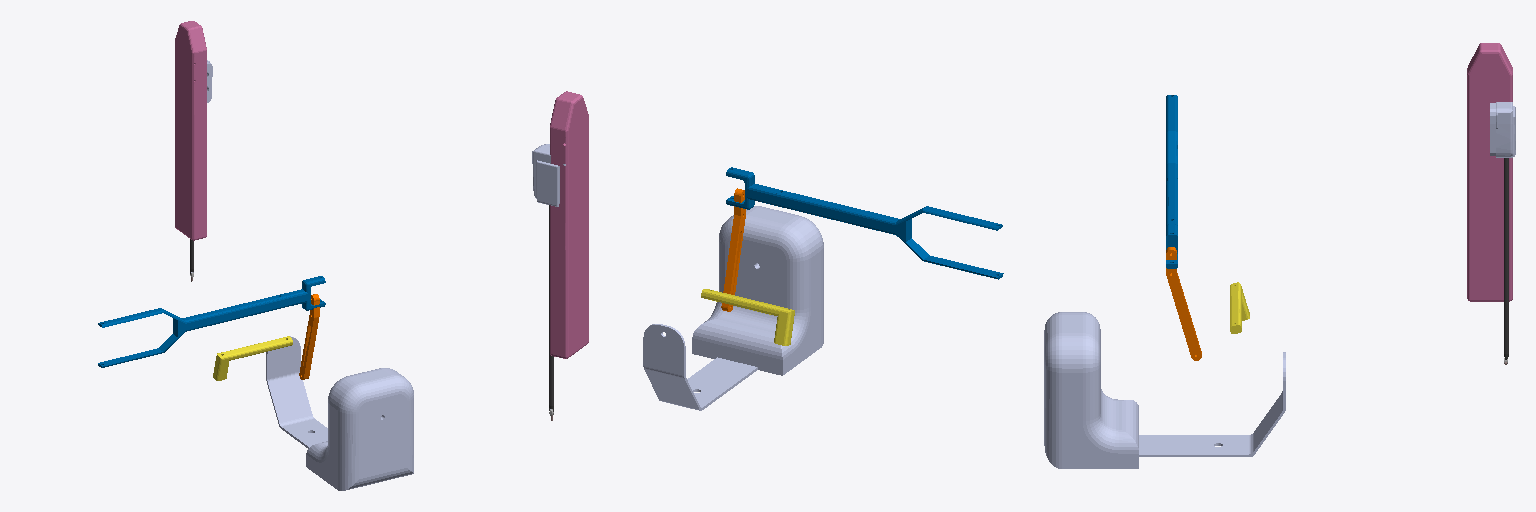
robot.urdf — daVinci:
<?xml version="1.0" encoding="utf-8"?>

<robot name="daVinci">

  <!-- link 0: psm base link -->
  <link name="psm_base_link">
    <visual>
      <origin rpy="1.5708 0 3.1416" xyz="0.039 -0.03888 -0.07879"/>
      <geometry>
        <mesh filename="package://dvrk_model/meshes/psm_base.dae"/>      
      </geometry>
    </visual>
  </link>
  
  <!-- joint 1 -->
  <joint name="outer_yaw_joint" type="revolute">
    <parent link="psm_base_link"/>
    <child link="outer_yaw_link"/>
    <axis xyz="0 0 1"/>
    <origin rpy="1.5708 -1.5708 0" xyz="0.0 0.0 0.0"/>
    <limit lower="-1.5707" upper="1.5707" velocity=".4" effort="1000"/>
  </joint> 
  
  
  <!-- link 1: outer_yaw -->
  <link name="outer_yaw_link">
    <visual>
      <!-- <origin rpy="0 0 -1.5708" xyz="0.0125 0 0.1575"/> -->
      <origin rpy="3.1416 0 1.5708" xyz="0.0125 0 0.1575"/>
      <geometry>
        <mesh filename="package://dvrk_model/meshes/outer_yaw.dae"/>      
      </geometry>
    </visual>
  </link>

  <!-- joint 2-1: outer_pitch_1 -->
  <joint name="outer_pitch_joint_1" type="revolute">
    <parent link="outer_yaw_link"/>
    <child link="outer_pitch_back_link"/>
    <axis xyz="0 0 1"/>
    <origin rpy="-1.5708 -1.5708 0" xyz="0 0.0295 0.1495"/>
    <limit lower="-0.7854" upper="0.7854" velocity=".4" effort="1000"/>
  </joint> 
  
  <!-- link 2: outer_pitch_back -->
  <link name="outer_pitch_back_link">
    <visual>
      <origin rpy="0 0 -0.27129" xyz="0 0 0"/>
      <geometry>
        <mesh filename="package://dvrk_model/meshes/outer_pitch_back.dae"/>      
      </geometry>
    </visual>
  </link>

  <!-- joint 2-2: outer_pitch_2 -->
  <joint name="outer_pitch_joint_2" type="continuous">
    <parent link="outer_yaw_link"/>
    <child link="outer_pitch_front_link"/>
    <axis xyz="0 0 1"/>
    <origin rpy="-1.5708 -1.5708 0" xyz="0 0.0295 0.0595"/>
    <mimic joint="outer_pitch_joint_1" multiplier="1"/>
  </joint>

  <!-- link 2-2: outer_pitch_front -->
  <link name="outer_pitch_front_link">
    <visual>
      <origin rpy="0 0 -0.27129" xyz="0 0 0"/>
      <!-- <origin rpy="0 0 0" xyz="0 0 0"/> -->
      <geometry>
        <mesh filename="package://dvrk_model/meshes/outer_pitch_front.dae"/>      
      </geometry>
    </visual>
  </link>

  <!-- joint 2-3: outer_pitch_3 -->
  <joint name="outer_pitch_joint_3" type="continuous">
    <parent link="outer_pitch_back_link"/>
    <child link="outer_pitch_bottom_link"/>
    <axis xyz="0 0 1"/>
    <origin rpy="0 0 0" xyz="0.04178 0.15007 -0.0137"/>
    <mimic joint="outer_pitch_joint_1" multiplier="-1"/>
  </joint>

  <!-- link 2-3: outer_pitch_bottom -->
  <link name="outer_pitch_bottom_link">
    <visual>
      <origin rpy="0 -1.5708 0" xyz="0.009 0 0"/>
      <geometry>
        <mesh filename="package://dvrk_model/meshes/outer_pitch_bottom.dae"/>      
      </geometry>
    </visual>
  </link>

  <!-- joint 2-4: outer_pitch_4 -->
  <joint name="outer_pitch_joint_4" type="continuous">
    <parent link="outer_pitch_back_link"/>
    <child link="outer_pitch_top_link"/>
    <axis xyz="0 0 1"/>
    <origin rpy="0 0 0" xyz="0.04209 0.18695 -0.02412"/>
    <mimic joint="outer_pitch_joint_1" multiplier="-1"/>
  </joint>

  <!-- link 2-4: outer_pitch_top -->
  <link name="outer_pitch_top_link">
    <visual>
      <origin rpy="0 -1.5708 0" xyz="0.009 0 0"/>
      <geometry>
        <mesh filename="package://dvrk_model/meshes/outer_pitch_top.dae"/>      
      </geometry>
    </visual>
  </link>

  <!-- joint 2-5: outer_pitch_5 -->
  <joint name="outer_pitch_joint_5" type="continuous">
    <parent link="outer_pitch_bottom_link"/>
    <child link="outer_insertion_link"/>
    <axis xyz="0 0 1"/>
    <origin rpy="0 0 0" xyz="-0.520 0 -0.0175"/>
    <mimic joint="outer_pitch_joint_1" multiplier="1"/>
  </joint>

  <!-- link 2-5: outer_insertion -->
  <link name="outer_insertion_link">
    <visual>
      <origin rpy="0 -1.5708 1.5708" xyz="0.02528 0.429 0"/>
      <geometry>
        <mesh filename="package://dvrk_model/meshes/outer_insertion.dae"/>      
      </geometry>
    </visual>
  </link>

  <!-- joint 3: insertion -->
  <joint name="outer_insertion_joint" type="prismatic">
    <parent link="outer_insertion_link"/>
    <child link="tool_main_link"/>
    <axis xyz="0 0 1"/>
    <origin rpy="1.5708 0 0" xyz="-0.0403 0.23622 0"/>
    <limit lower="0" upper="0.240" velocity=".4" effort="1000"/>
  </joint>

  <!-- link 3: tool_main_link -->
  <link name="tool_main_link">
    <visual>
      <origin rpy="0 0 1.5708" xyz="0 0 0"/>
      <geometry>
        <mesh filename="package://dvrk_model/meshes/tool_main.dae"/>      
      </geometry>
    </visual>
  </link>
  
  <!-- joint 4-1: Outer Roll -->
  <joint name="outer_roll_joint" type="revolute">
    <parent link="tool_main_link"/>
    <child link="tool_wrist_link"/>
    <axis xyz="0 0 1"/>
    <origin rpy="0 0 0" xyz="0 0 0.36680"/>
    <limit lower="-2.2689" upper="2.2689" velocity=".4" effort="1000"/>
  </joint>

  <!-- link 4-1: tool_main_link -->
  <link name="tool_wrist_link">
    <visual>
      <origin rpy="0 0 1.5708" xyz="0 0 0"/>
      <geometry>
        <mesh filename="package://dvrk_model/meshes/tool_wrist_link.dae"/>      
      </geometry>
    </visual>
  </link>

  <!-- joint 4-1: Outer Roll shaft -->
  <joint name="outer_roll_shaft_joint" type="fixed">
    <parent link="tool_wrist_link"/>
    <child link="tool_wrist_shaft_link"/>
    <axis xyz="0 0 1"/>
    <origin rpy="0 0 0" xyz="0 0 0.0091"/>
  </joint>

  <!-- link 4-1: tool_wrist_shaft_link -->
  <link name="tool_wrist_shaft_link">
    <visual>
      <origin rpy="1.5708 0 0" xyz="0 0.00401 0"/>
      <geometry>
        <mesh filename="package://dvrk_model/meshes/tool_wrist_shaft_link.dae"/> 
      </geometry>
    </visual>
  </link>

  <!-- joint 5: Outer wrist pitch joint -->
  <joint name="outer_wrist_pitch_joint" type="revolute">
    <parent link="tool_wrist_shaft_link"/>
    <child link="tool_wrist_sca_link"/>
    <axis xyz="0 0 1"/>
    <origin rpy="-1.5708 -1.5708 0" xyz="0 0 0"/>
    <limit lower="-1.5707" upper="1.5707" velocity=".4" effort="1000"/>
  </joint>

  <!-- link 5: tool_wrist_sca_link -->
  <link name="tool_wrist_sca_link">
    <visual>
      <!-- <origin rpy="0 3.1416 0" xyz="0 0 0"/> -->
      <origin rpy="1.5708 3.1416 0" xyz="0.0051 0.0032 0"/>
      <geometry>
        <mesh filename="package://dvrk_model/meshes/tool_wrist_sca_link.dae"/> 
      </geometry>
    </visual>
  </link>

  <!-- joint 5-2: Outer wristyaw joint -->
  <joint name="outer_wrist_yaw_joint" type="revolute">
    <parent link="tool_wrist_sca_link"/>
    <child link="tool_wrist_sca_shaft_link"/>
    <axis xyz="0 0 1"/>
    <origin rpy="-1.5708 -1.5708 0" xyz="0.0089 0 0"/>
    <!-- +/- 80 deg -->
    <limit lower="-1.3963" upper="1.3963" velocity=".4" effort="1000"/>
  </joint>

  <!-- link 5-2: tool_wrist_sca_shaft_link -->
  <link name="tool_wrist_sca_shaft_link">
    <visual>
      <origin rpy="0 0 0" xyz="0 0 -0.0025"/>
      <geometry>
        <mesh filename="package://dvrk_model/meshes/tool_wrist_sca_shaft_link.dae"/> 
      </geometry>
    </visual>
  </link>
  
  <!-- joint 6-1: Outer open angle 1  -->
  <joint name="outer_wrist_open_angle_joint_1" type="revolute">
    <parent link="tool_wrist_sca_shaft_link"/>
    <child link="tool_wrist_sca_ee_link_1"/>
    <axis xyz="0 0 1"/>
    <origin rpy="0 0 0" xyz="0 0 0"/>
    <!-- <origin rpy="-1.5708 -1.5708 0" xyz="0 0 0"/> -->
    <limit lower="0" upper="1.5707" velocity=".4" effort="1000"/>
  </joint>

  <!-- link 6-1: Outer open angle link 1 -->
  <link name="tool_wrist_sca_ee_link_1">
    <visual>
      <origin rpy="0 0 0" xyz="0 0 0"/>
      <geometry>
        <mesh filename="package://dvrk_model/meshes/tool_wrist_sca_link_2.dae"/>
      </geometry>
    </visual>
  </link>

  <!-- joint 6-2: Outer open angle 2   -->
  <joint name="outer_wrist_open_angle_joint_2" type="revolute">
    <parent link="tool_wrist_sca_shaft_link"/>
    <child link="tool_wrist_sca_ee_link_2"/>
    <axis xyz="0 0 1"/>
    <origin rpy="0 0 0" xyz="0 0 0"/>
    <limit lower="-1.5707" upper="1.5707" velocity=".4" effort="1000"/>
    <mimic joint="outer_wrist_open_angle_joint_1" multiplier="-1"/>
  </joint>

  <!-- link 6-2: Outer open angle link 2 -->
  <link name="tool_wrist_sca_ee_link_2">
    <visual>
      <origin rpy="0 3.1516 0" xyz="0 0 0"/>
      <geometry>
        <mesh filename="package://dvrk_model/meshes/tool_wrist_sca_link_2.dae"/>
      </geometry>
    </visual>
  </link>


  
</robot>

--- Render facts (derived) ---
Views: 3 orthographic renders of the robot side by side, from view 1: azimuth 30°, elevation 25°; view 2: azimuth 150°, elevation 25°; view 3: azimuth 270°, elevation 25°.
Robot: daVinci — 14 links, 13 joints (7 revolute, 4 continuous, 1 prismatic, 1 fixed); root link psm_base_link; default pose: all joints at 0.
Links seen in each view (by area): view 1: psm_base_link, outer_insertion_link, outer_pitch_bottom_link, outer_pitch_front_link, outer_pitch_back_link; view 2: psm_base_link, outer_insertion_link, outer_pitch_bottom_link, tool_main_link, outer_pitch_front_link, outer_pitch_back_link; view 3: psm_base_link, outer_insertion_link, tool_main_link, outer_pitch_bottom_link, outer_pitch_back_link, outer_pitch_front_link.
Link boxes in pixels (bbox=[...]): psm_base_link: bbox=[266, 336, 413, 490]; outer_insertion_link: bbox=[175, 21, 206, 240]; outer_pitch_bottom_link: bbox=[98, 276, 325, 367]; outer_pitch_front_link: bbox=[213, 336, 292, 380]; outer_pitch_back_link: bbox=[299, 294, 319, 379]; psm_base_link: bbox=[643, 206, 823, 410]; outer_insertion_link: bbox=[550, 91, 588, 358]; outer_pitch_bottom_link: bbox=[726, 167, 1003, 279]; tool_main_link: bbox=[532, 144, 565, 405]; outer_pitch_front_link: bbox=[701, 289, 794, 345]; outer_pitch_back_link: bbox=[721, 188, 745, 311]; psm_base_link: bbox=[1044, 312, 1285, 468]; outer_insertion_link: bbox=[1467, 43, 1512, 301]; tool_main_link: bbox=[1490, 102, 1515, 353]; outer_pitch_bottom_link: bbox=[1166, 95, 1177, 268]; outer_pitch_back_link: bbox=[1166, 247, 1201, 360]; outer_pitch_front_link: bbox=[1230, 282, 1249, 333].
Bounding box of the posed robot: 0.6224 × 0.7888 × 0.7334 m (x, y, z).
12 mesh visuals loaded from 13 distinct referenced files (11 Collada DAE); not drawn: 2 (reference not matched to a file when rendering).
